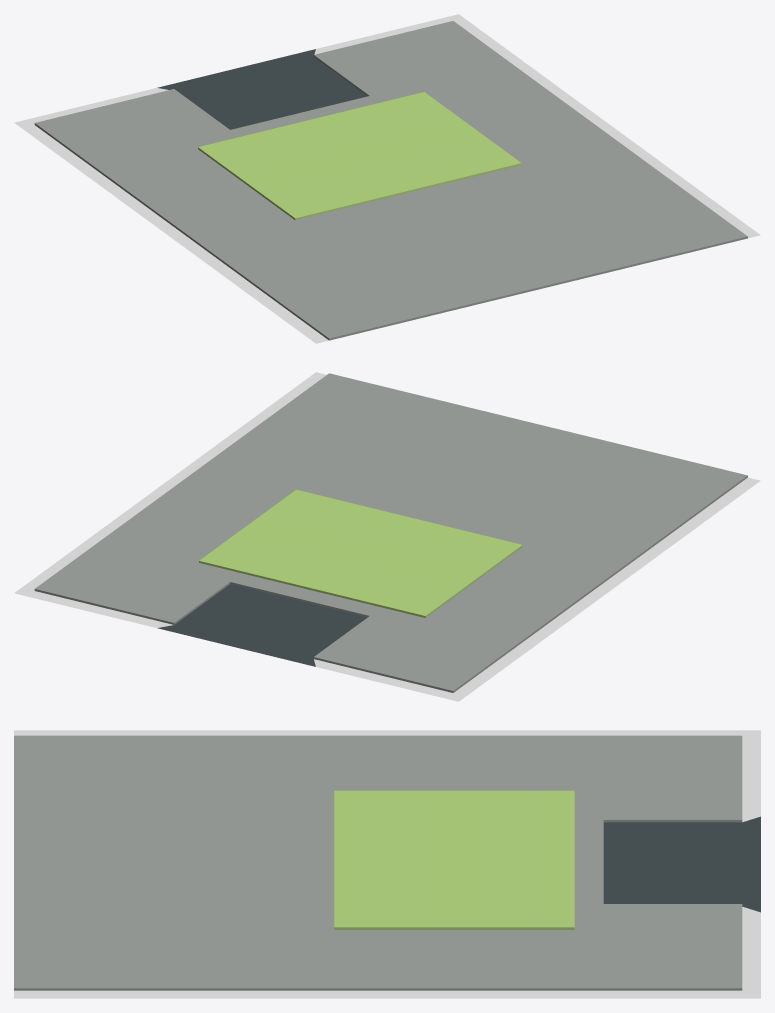
Rendered from hospital_plane.fbx.
3 renders of one model, top to bottom at view 1: azimuth 30°, elevation 25°; view 2: azimuth 150°, elevation 25°; view 3: azimuth 270°, elevation 25°, orthographic. The views are drawn at different scales.
Visible parts, largest first — view 1: Plane; view 2: Plane; view 3: Plane.
Part boxes in pixels (<box>): Plane: <box>14,14,760,343</box>; Plane: <box>14,372,760,701</box>; Plane: <box>14,730,760,998</box>.
Bounding box in the file's own units: 6800 × 60 × 8000.
